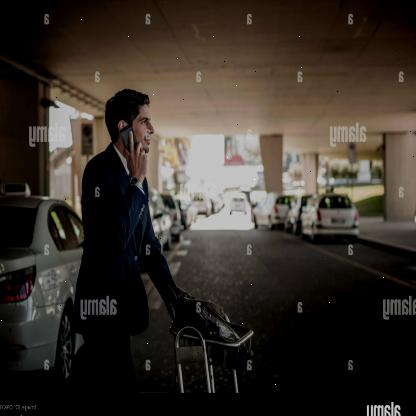airport-trolley: (163, 310, 260, 394)
